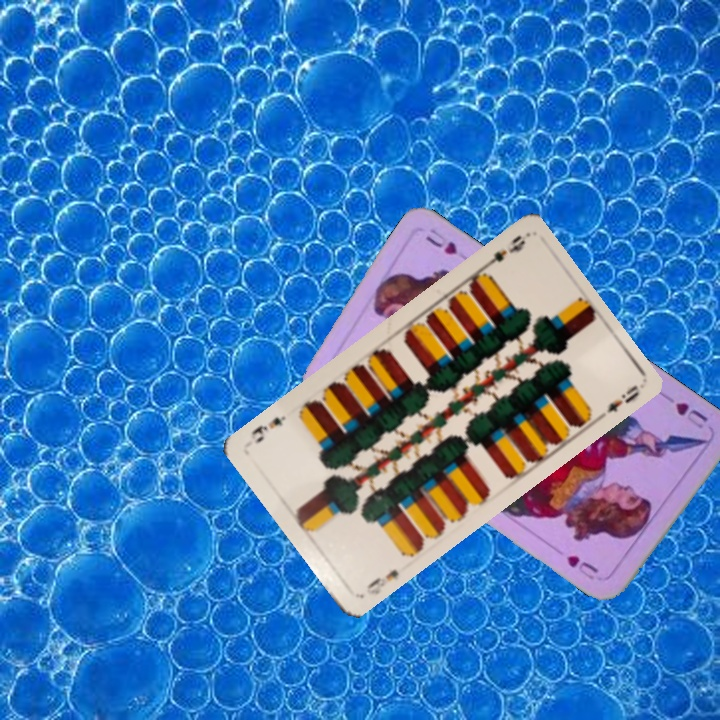E9: (476, 231, 528, 281), (362, 564, 402, 598)
HU: (671, 398, 711, 432)
